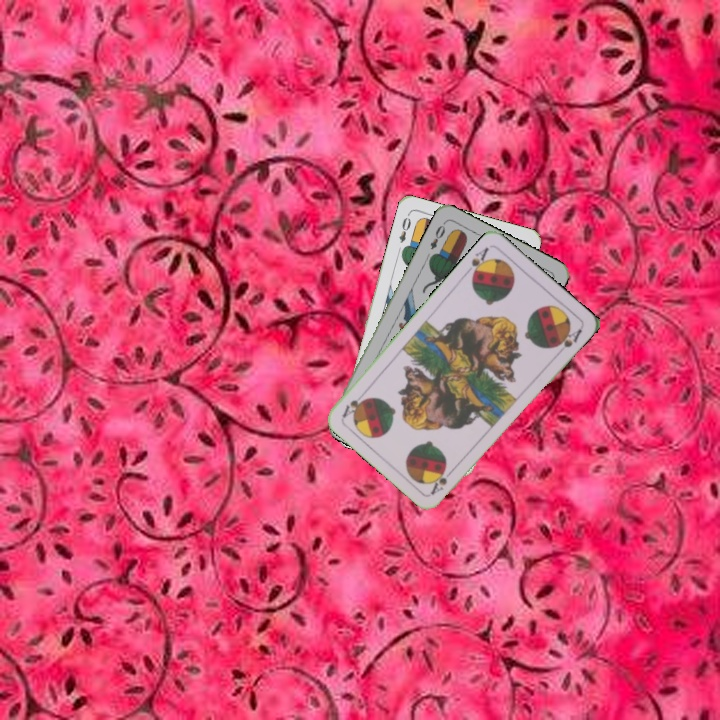EO: (426, 218, 448, 252), (395, 210, 414, 245)
SA: (462, 243, 493, 281), (427, 463, 458, 497)
